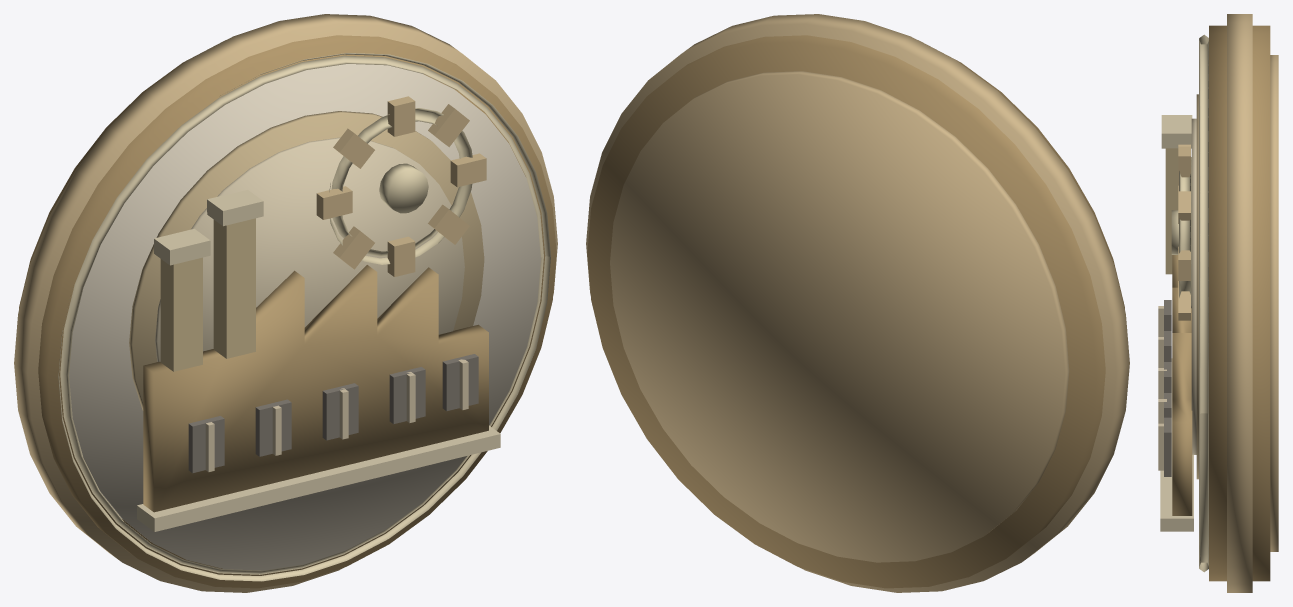
The model's file is ART-04.glb.
The picture shows the model from 3 angles, left to right: view 1: azimuth 30°, elevation 25°; view 2: azimuth 150°, elevation 25°; view 3: azimuth 270°, elevation 25°; orthographic projection. The views are drawn at different scales.
Visible parts, largest first — view 1: world; view 2: world; view 3: world.
Boxes of the visible parts, x1,y1,x2,y2 form: world: (14,14,557,592); world: (586,14,1129,592); world: (1158,14,1278,592).
Bounding box in the file's own units: 2 × 2 × 0.4142.
